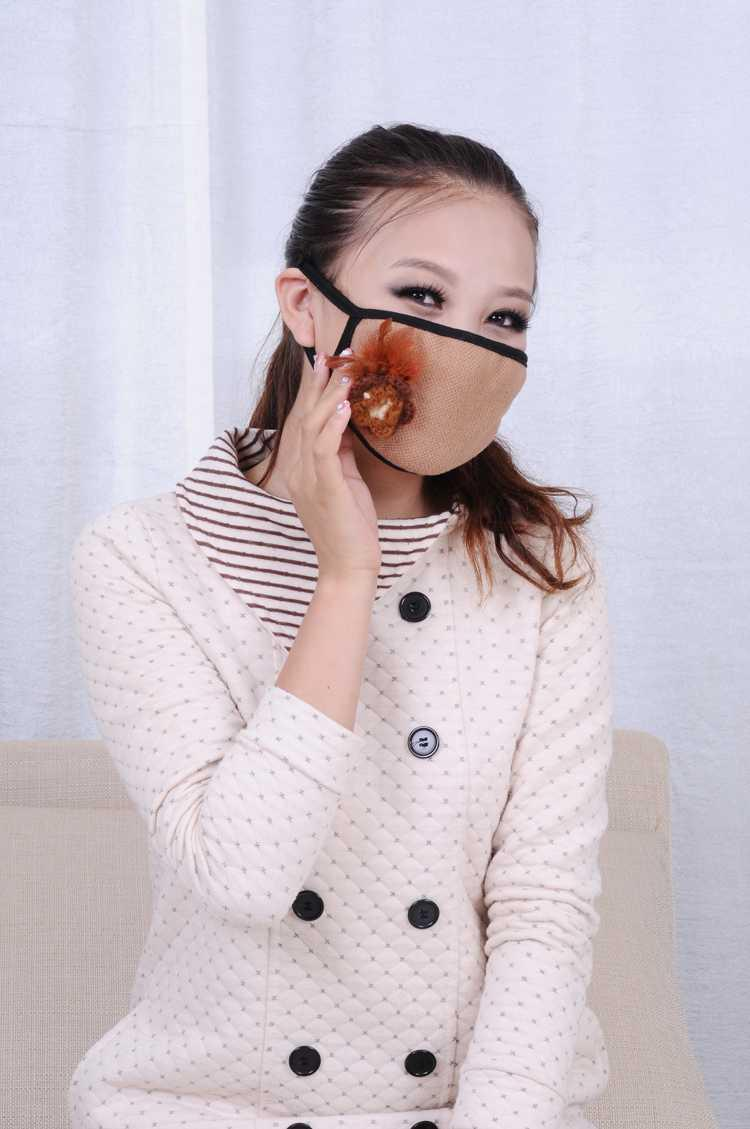OK: (327, 239, 535, 467)
